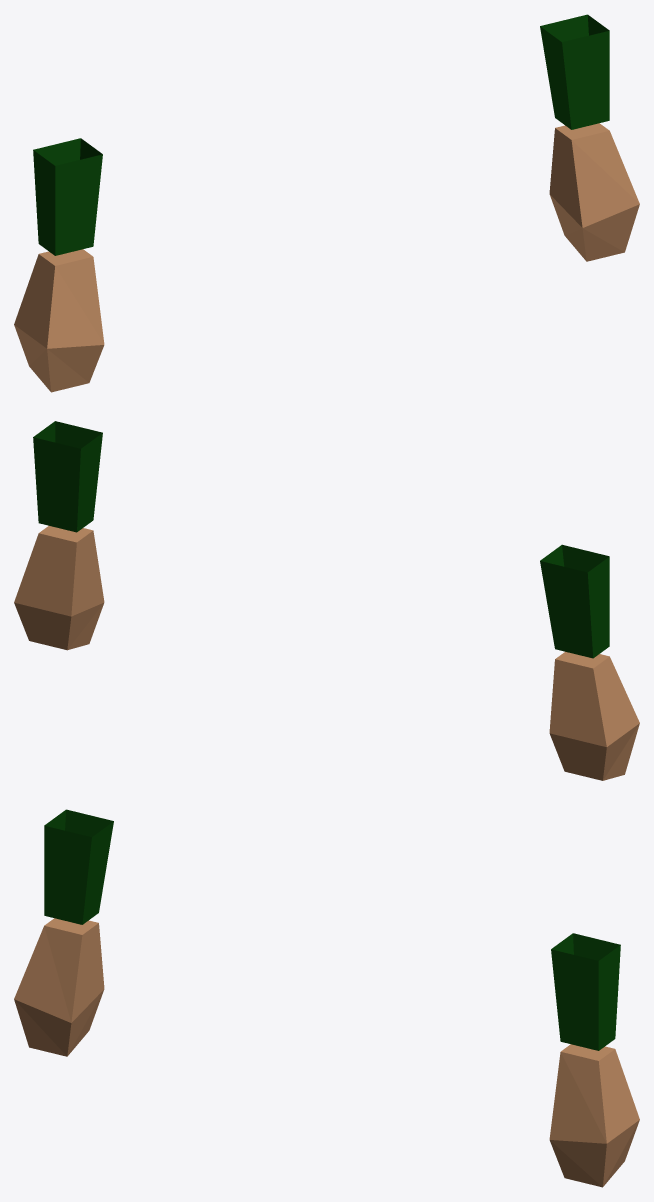
The model's file is model_355_obj_wear.obj.
3 renders of one model, top to bottom at view 1: azimuth 30°, elevation 25°; view 2: azimuth 150°, elevation 25°; view 3: azimuth 330°, elevation 25°, orthographic.
Parts seen in each view (by area): view 1: 355; view 2: 355; view 3: 355.
Boxes of the visible parts, x1=… form: 355: x1=14, y1=14, x2=639, y2=392; 355: x1=14, y1=421, x2=639, y2=780; 355: x1=14, y1=809, x2=639, y2=1187.
Size of the model in its own units: 62 by 22 by 6.
